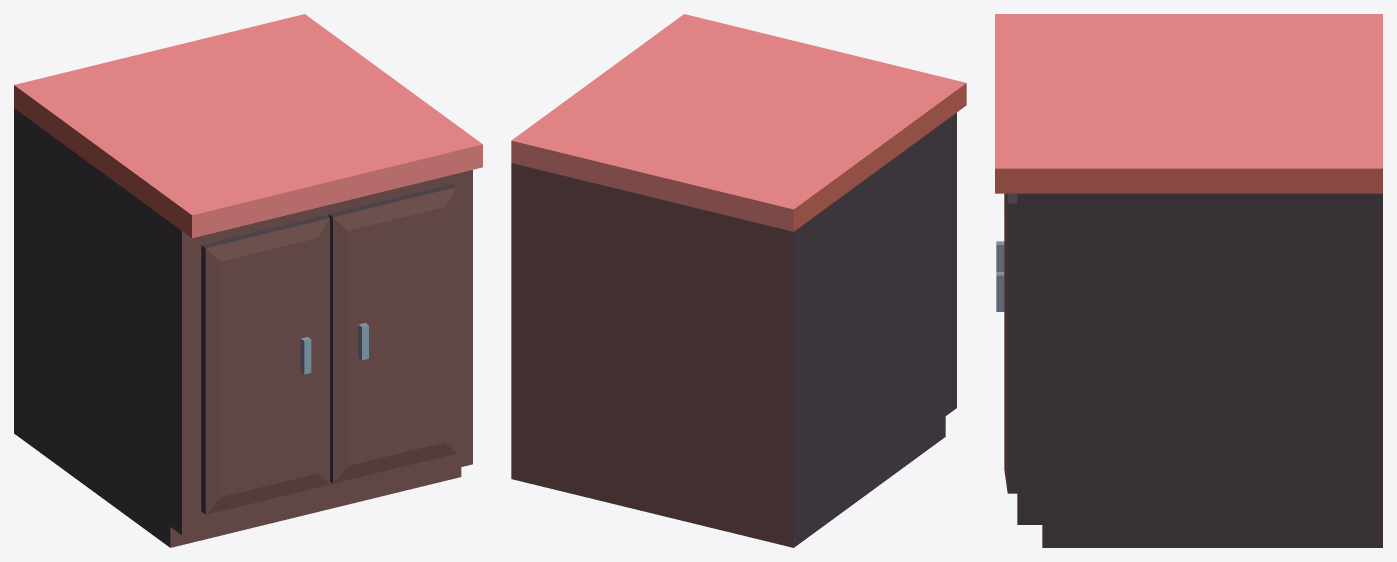
File: Kitchen Cabinet v1.fbx
The picture shows the model from 3 angles, left to right: view 1: azimuth 30°, elevation 25°; view 2: azimuth 150°, elevation 25°; view 3: azimuth 270°, elevation 25°; orthographic projection. The views are drawn at different scales.
Parts seen in each view (by area): view 1: Kitchen Cabinet v1; view 2: Kitchen Cabinet v1; view 3: Kitchen Cabinet v1.
Boxes of the visible parts, x1,y1,x2,y2 form: Kitchen Cabinet v1: [14, 14, 482, 547]; Kitchen Cabinet v1: [511, 14, 966, 547]; Kitchen Cabinet v1: [995, 14, 1382, 547].
Bounding box in the file's own units: 200 × 229 × 212.
